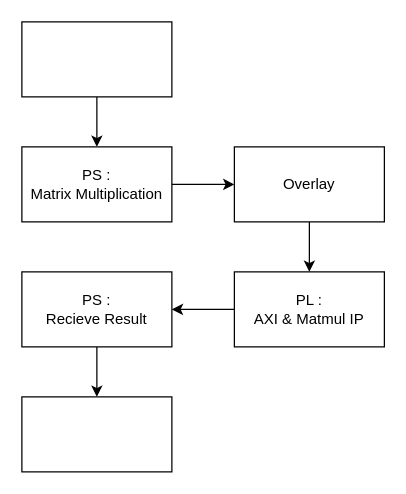
Image size: 406x494. Some labels were removed from this diagram. Each missing label, with the box of its shape:
PS : Continue: (21, 396, 172, 472)
PS : TinyBERT SST-2: (21, 21, 172, 97)
